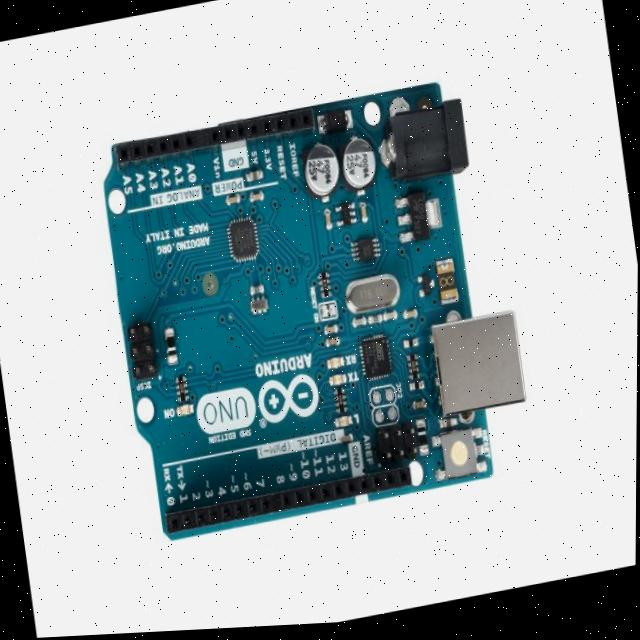Arduino: (70, 62, 549, 563)
